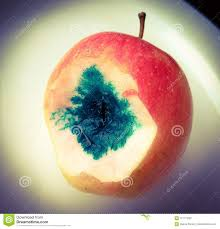damaged_apple: (38, 32, 193, 200)
